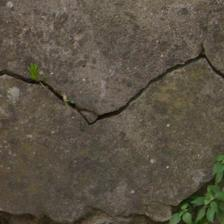Crack: (3, 26, 219, 103)
